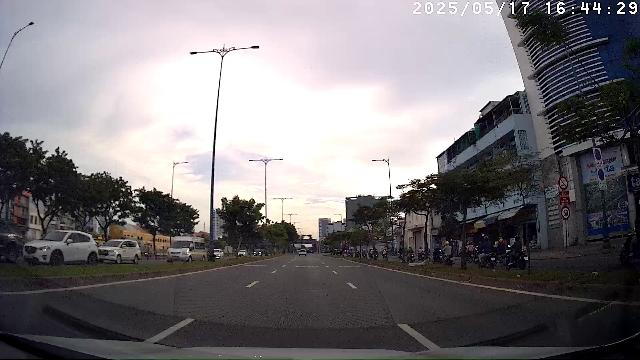127-toc-do-toi-da-50: (561, 206, 571, 220)
